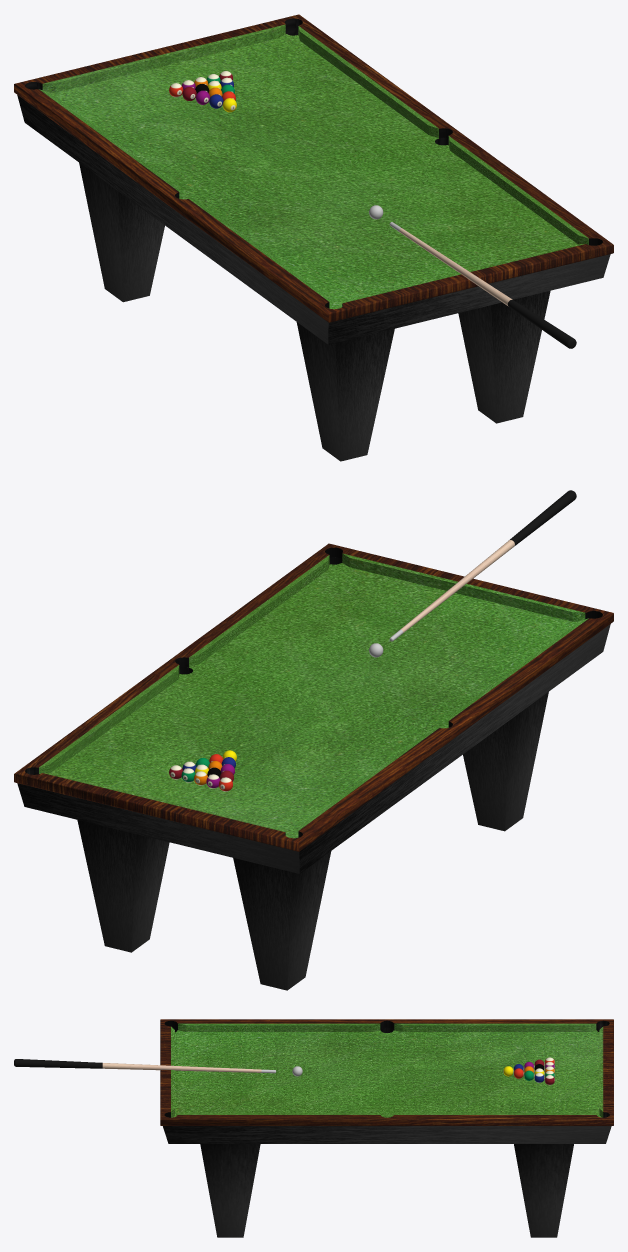
Rendered from pool_last.fbx.
3 views of the same model, one above another, from view 1: azimuth 30°, elevation 25°; view 2: azimuth 150°, elevation 25°; view 3: azimuth 270°, elevation 25° (orthographic). The views are drawn at different scales.
Parts seen in each view (by area): view 1: pool_table, pool_cue; view 2: pool_table, pool_cue; view 3: pool_table, pool_cue.
Part boxes in pixels (box(x1,y1,x2,y2)): pool_table: box(14, 14, 613, 461); pool_cue: box(389, 222, 576, 348); pool_table: box(14, 543, 613, 990); pool_cue: box(389, 490, 576, 641); pool_table: box(160, 1019, 613, 1237); pool_cue: box(14, 1059, 276, 1073).
Size of what is drawn, in the model's own units: 13.1 by 8.91 by 33.12.
